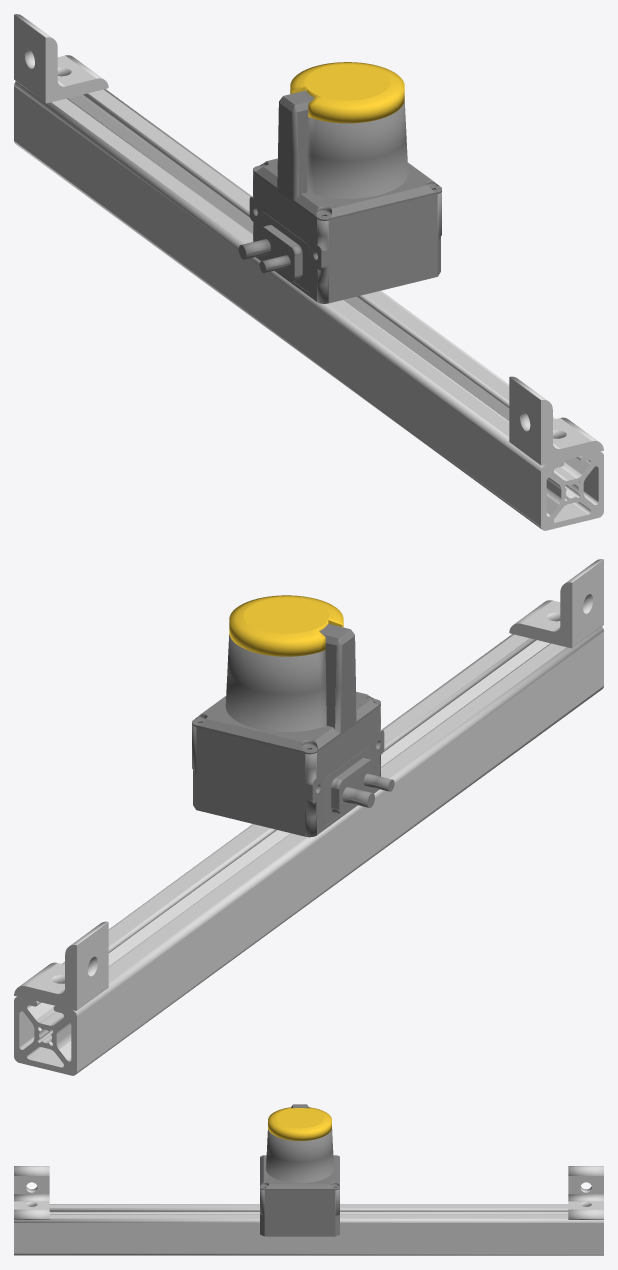
Rendered from hokuyo.dae.
3 renders of one model, top to bottom at view 1: azimuth 30°, elevation 25°; view 2: azimuth 150°, elevation 25°; view 3: azimuth 270°, elevation 25°, orthographic. The views are drawn at different scales.
Parts seen in each view (by area): view 1: Body1, Body5, Body4, Body2, Body6, Body7, Body3; view 2: Body1, Body5, Body4, Body2, Body7, Body6, Body3; view 3: Body1, Body5, Body4, Body6, Body7, Body2.
Boxes of the visible parts, left/top/right/bottom form: Body1: left=14, top=81, right=603, bottom=530; Body5: left=253, top=90, right=441, bottom=220; Body4: left=249, top=172, right=441, bottom=303; Body2: left=290, top=62, right=404, bottom=123; Body6: left=509, top=376, right=603, bottom=465; Body7: left=14, top=14, right=108, bottom=103; Body3: left=238, top=212, right=309, bottom=291; Body1: left=14, top=626, right=603, bottom=1075; Body5: left=192, top=624, right=380, bottom=754; Body4: left=192, top=705, right=384, bottom=837; Body2: left=229, top=595, right=343, bottom=656; Body7: left=14, top=921, right=108, bottom=1010; Body6: left=509, top=559, right=603, bottom=648; Body3: left=324, top=745, right=394, bottom=824; Body1: left=14, top=1204, right=603, bottom=1255; Body5: left=260, top=1104, right=339, bottom=1189; Body4: left=260, top=1187, right=339, bottom=1236; Body6: left=14, top=1166, right=49, bottom=1219; Body7: left=568, top=1166, right=603, bottom=1219; Body2: left=268, top=1107, right=331, bottom=1140.
Size of the model in its own units: 0.0632 by 0.3683 by 0.0954.
